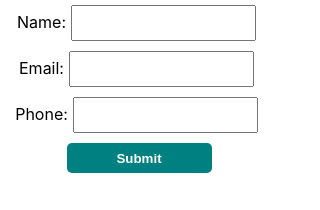
Scenario: Profile component › correct name, empty email, correct phone
Type "Martin" into the field labelled "Name:" at {"x": 164, "y": 23}, box [71, 5, 256, 41]
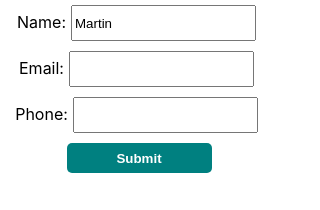
Type "@@@@@@@@dhsjdhjhds" into the field labelled "Email:" at {"x": 162, "y": 69}, box [69, 51, 254, 87]
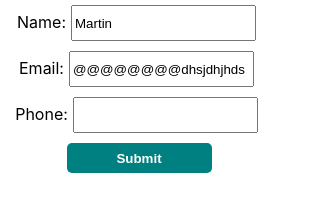
Type "1234567890" into the field labelled "Phone:" at {"x": 165, "y": 115}, box [73, 97, 258, 133]
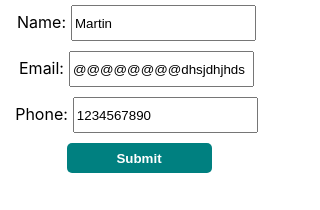
Click the button "Submit" at {"x": 139, "y": 158}, box [66, 143, 212, 173]
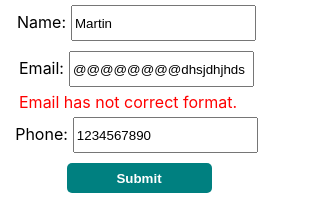
expect the text "Email has not correct format." is shown: met, box [19, 92, 237, 112]
